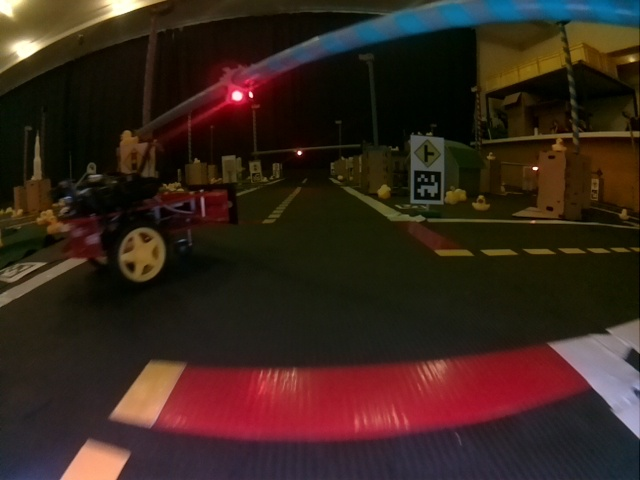Duckie: (120, 130, 138, 144), (473, 196, 489, 211), (552, 139, 566, 151), (377, 187, 391, 198), (446, 191, 458, 203), (37, 212, 47, 224), (487, 152, 496, 161), (620, 209, 629, 217)
Duckiebot: (61, 181, 235, 285)
Intersection sign: (412, 139, 439, 167)
QR code: (411, 172, 443, 203), (0, 262, 46, 283), (252, 173, 261, 182)
Signal sign: (251, 162, 260, 171)
Traffic light: (222, 69, 257, 106), (295, 148, 304, 158)
